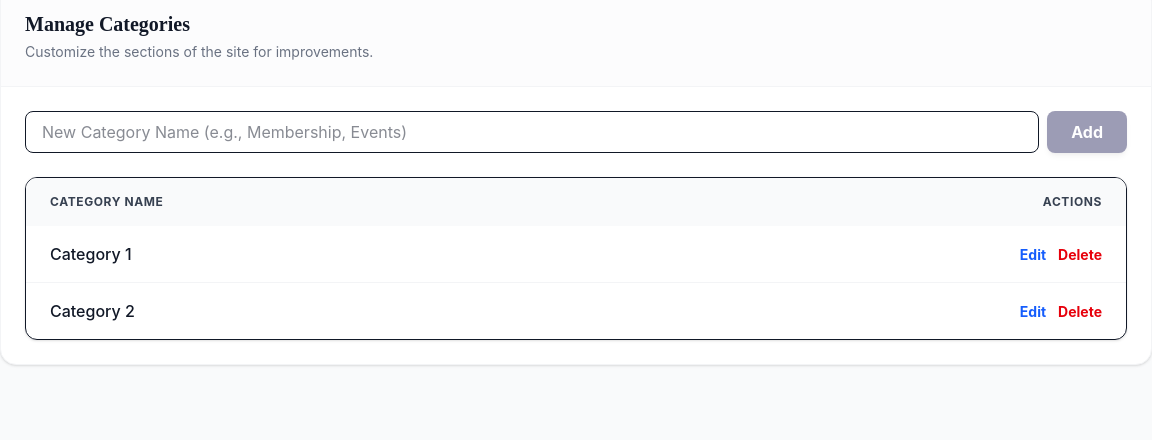
Test: CategoryManager UI › sorts categories alphabetically
The width and height of the screenshot is (1152, 440).
Step 1. Type "Aardvark" into the field with placeholder "New Category Name (e.g., Membership, Events)" → x=532, y=132, box [25,111,1039,153]
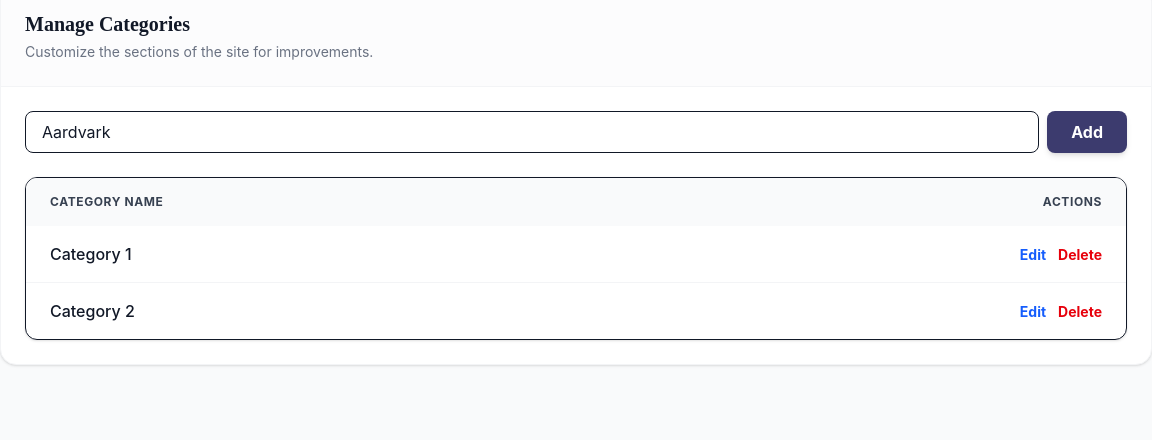
Step 2. Click the button "Add" → x=1087, y=132, box [1047,111,1127,153]
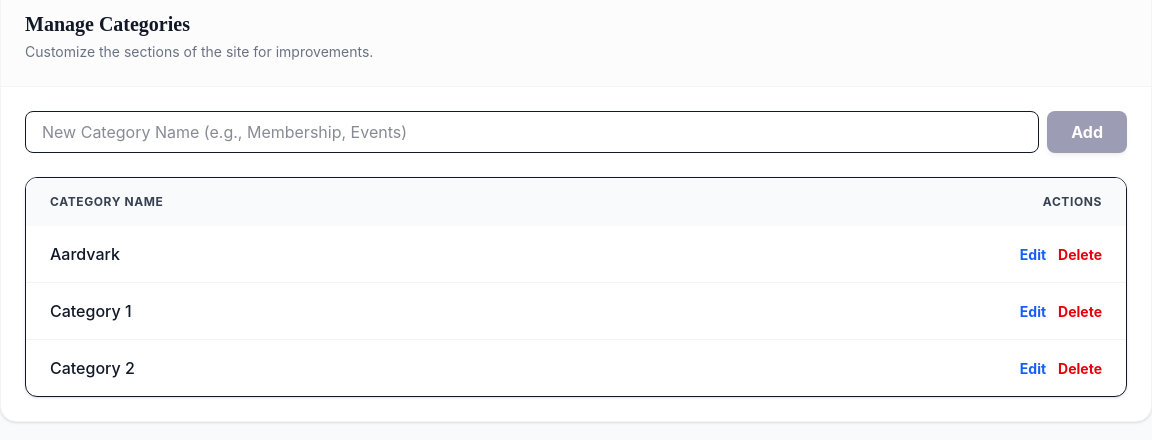
Expected: the row "Aardvark Edit Delete" is shown, [26,226,1126,282]
